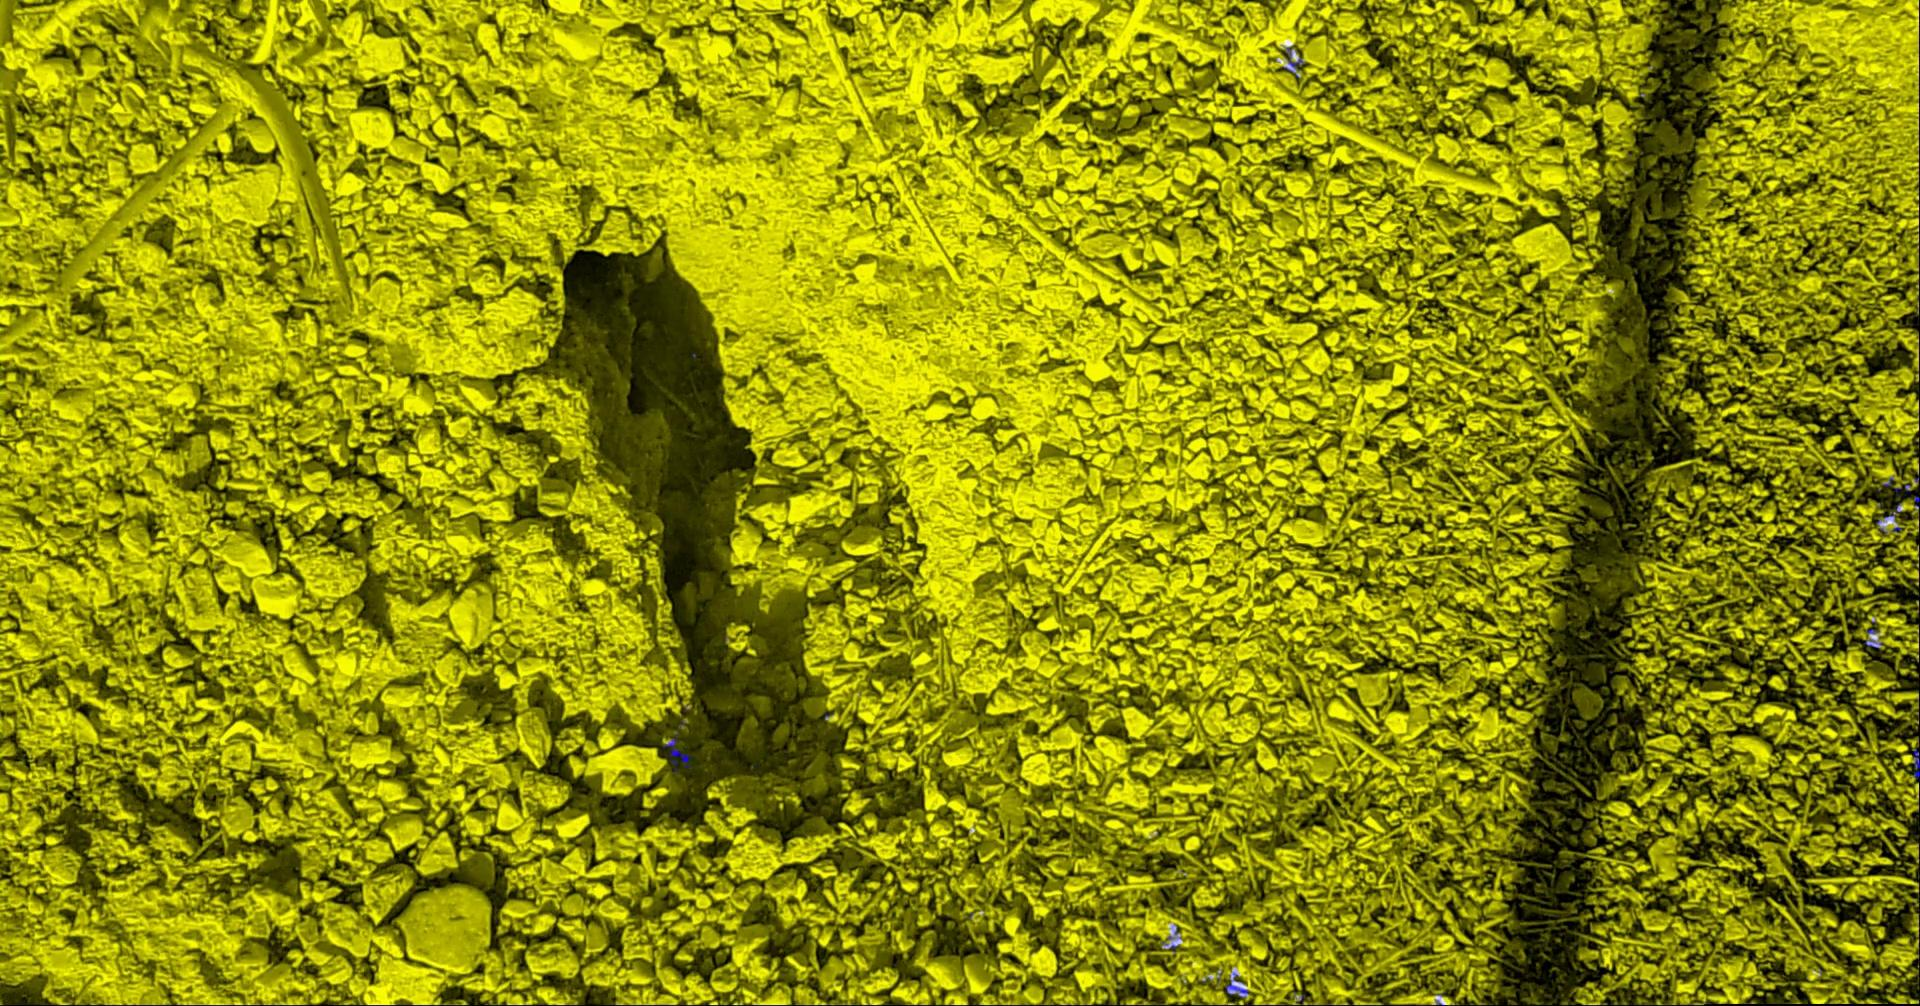ant: (663, 730, 690, 771), (1283, 46, 1303, 77), (1224, 973, 1250, 997), (1912, 735, 1919, 779)
